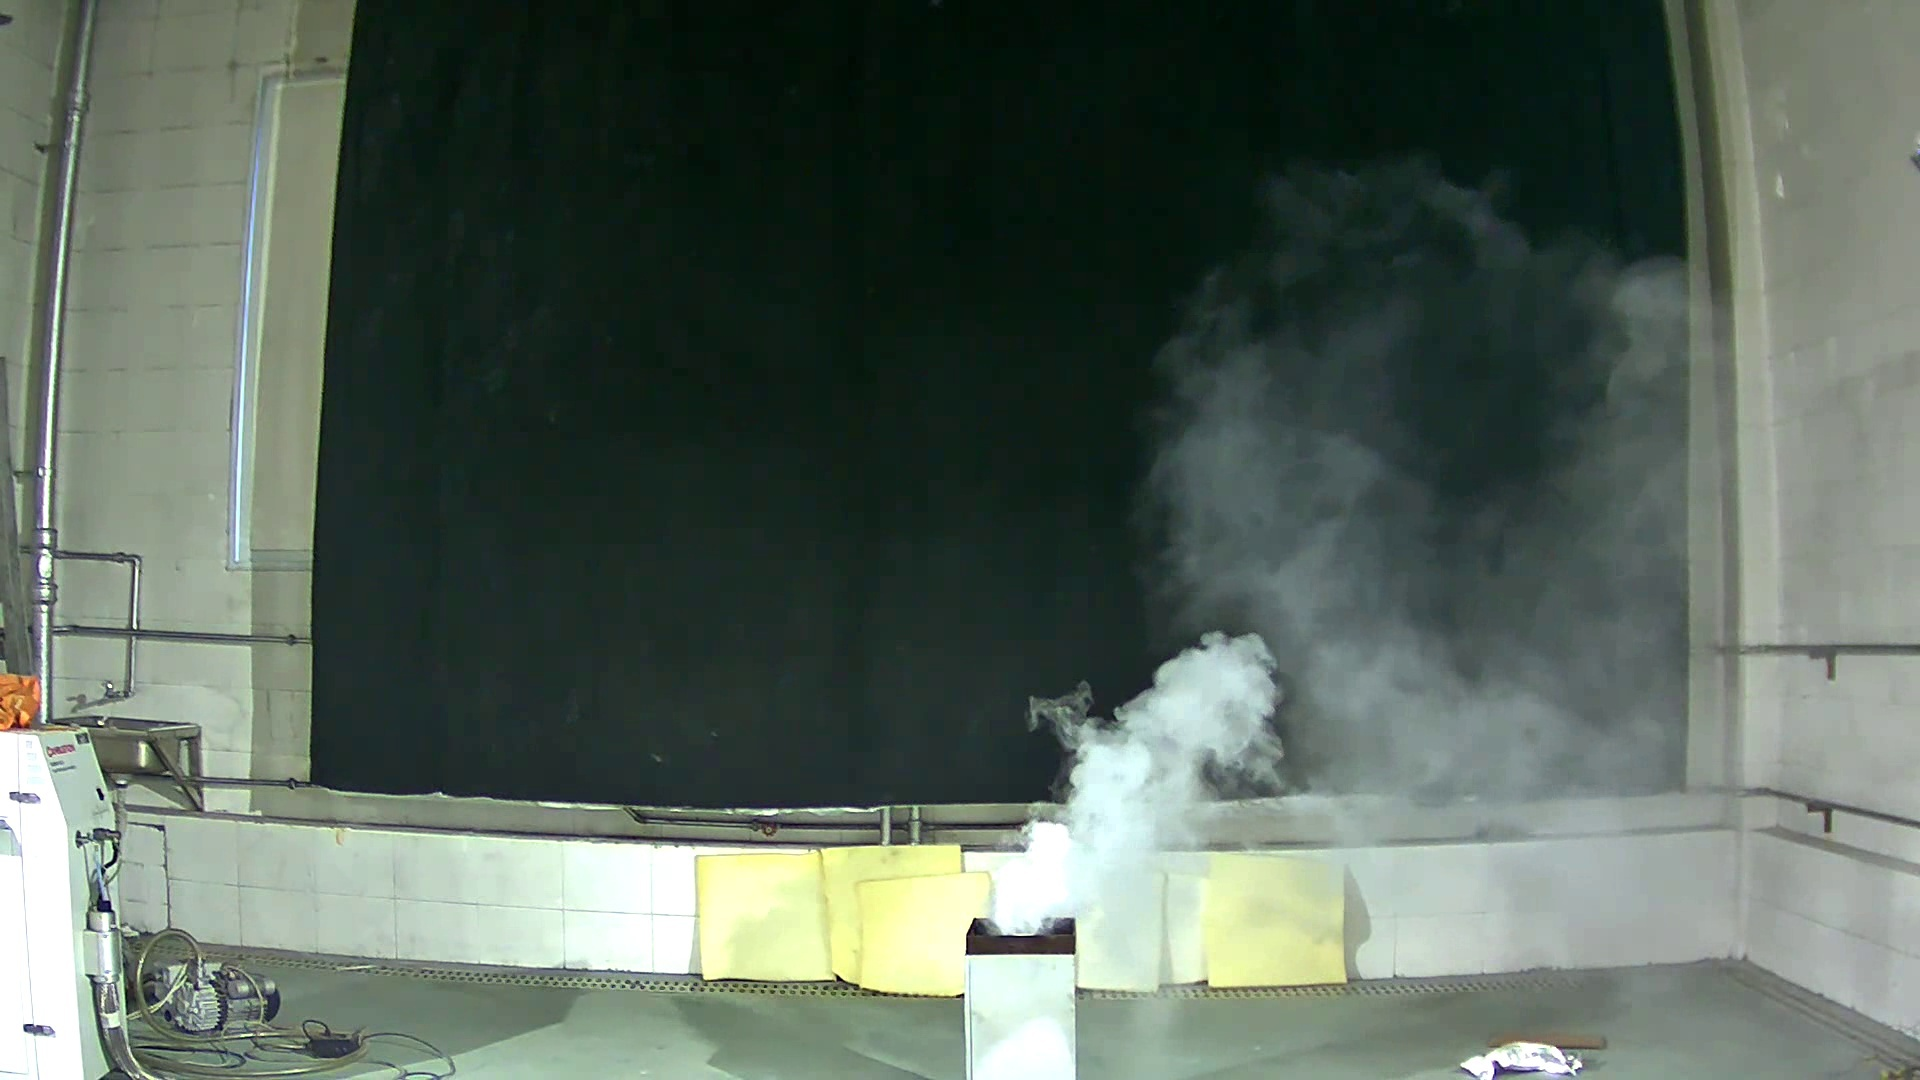smoke: (1193, 270, 1717, 843), (927, 593, 1280, 943)
